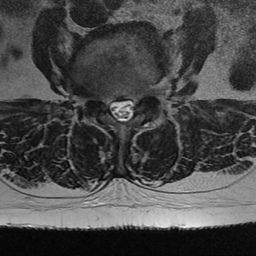CCS_normal: (117, 87, 126, 129)
LFS_severe_stenosis: (137, 82, 147, 108)
LLS_normal: (126, 88, 137, 122)
RFS_severe_stenosis: (96, 83, 107, 113)
RLS_normal: (108, 91, 117, 123)
